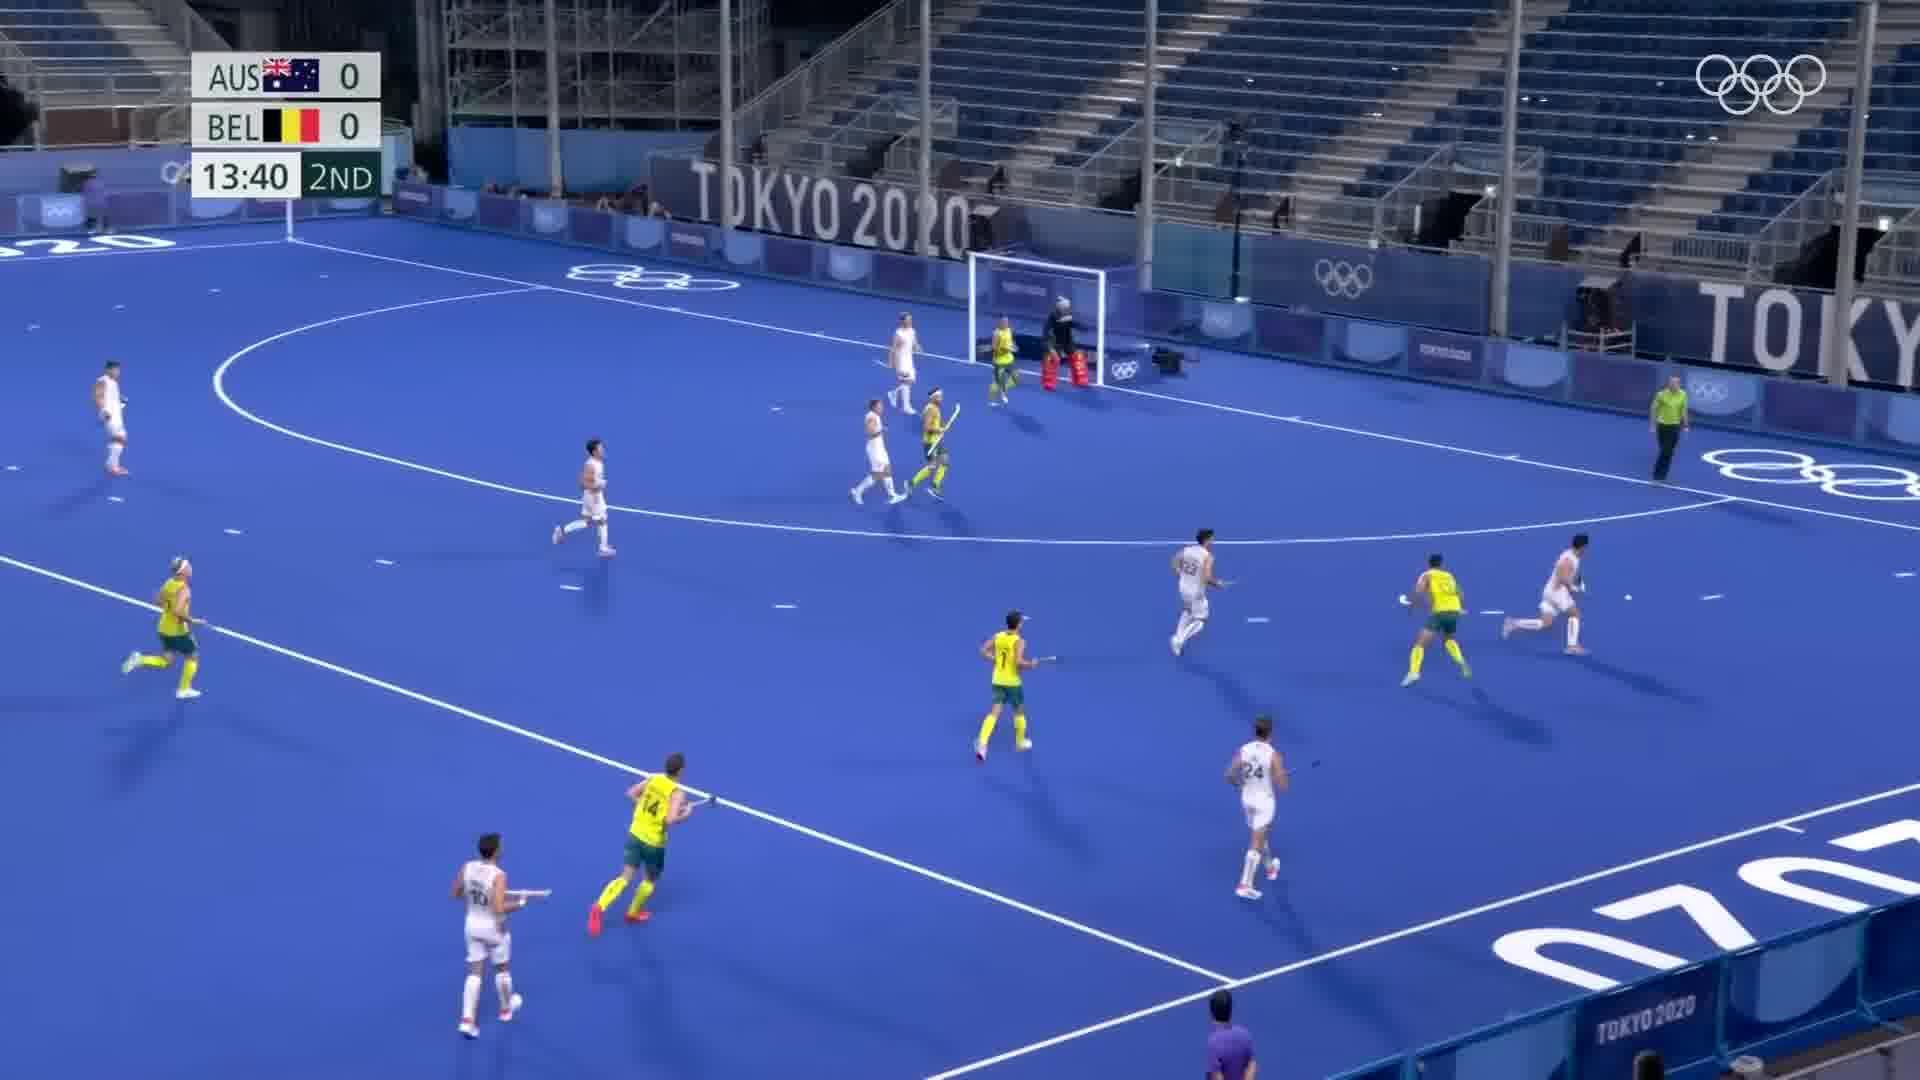ball: (1619, 585, 1639, 609)
